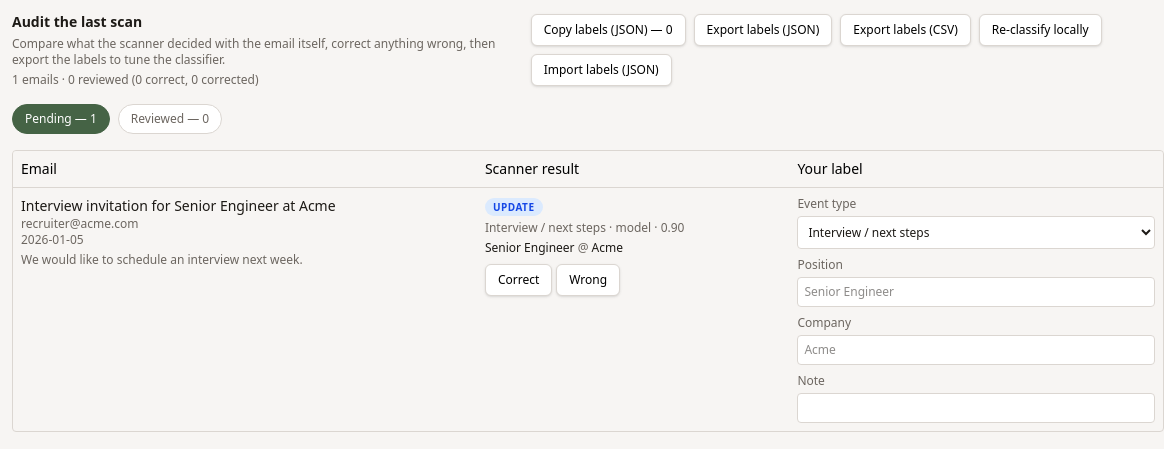
Test case: EmailScanAuditTable › marks a row wrong without changing any field
Step 1. Click the button with test id "audit-incorrect-m1" → x=588, y=280, box [556, 264, 620, 296]
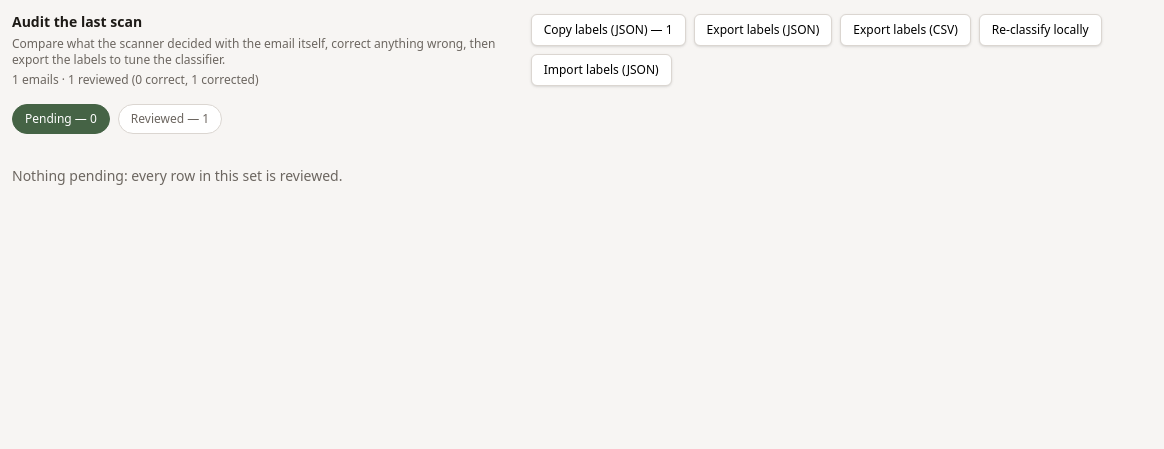
Now the text with test id "audit-stats" shows "(0 correct, 1 corrected)", box [12, 71, 258, 88]
